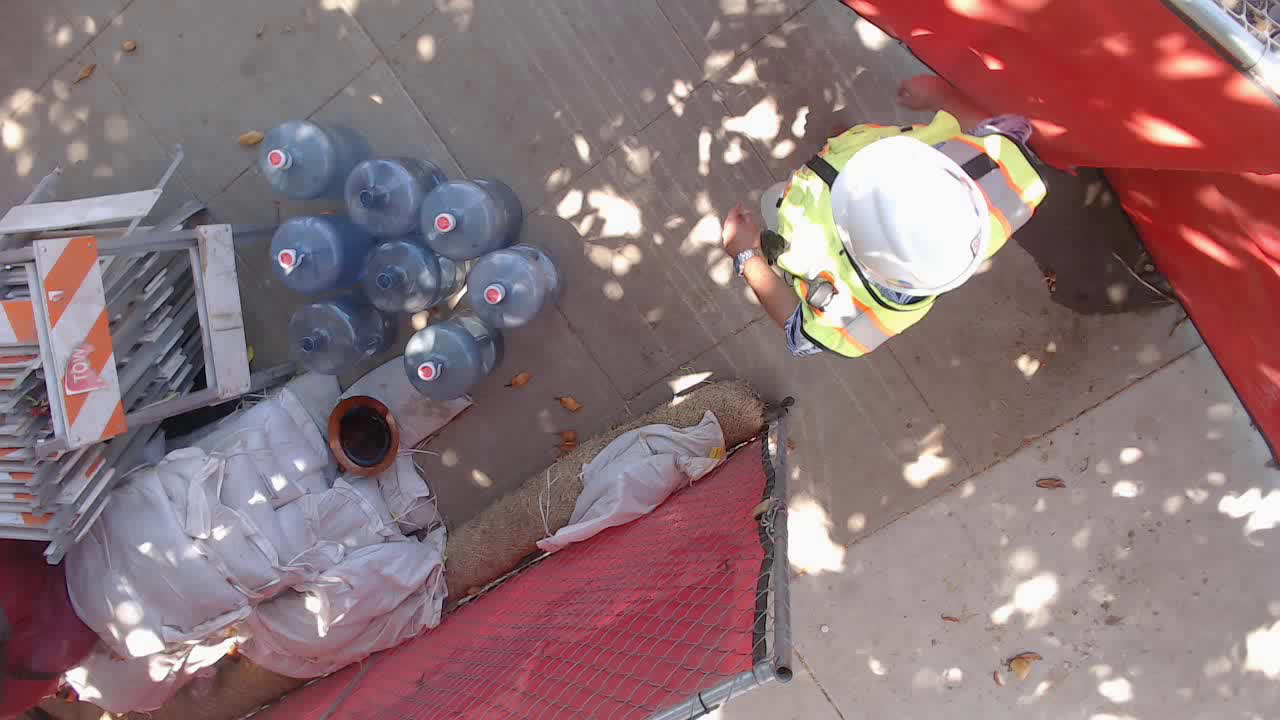hardhat: (831, 129, 987, 304)
safetyvest: (775, 130, 1046, 361)
